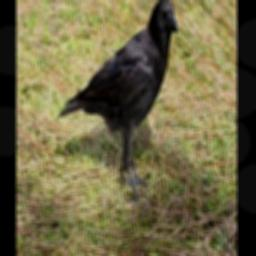Crow: (55, 0, 176, 205)
